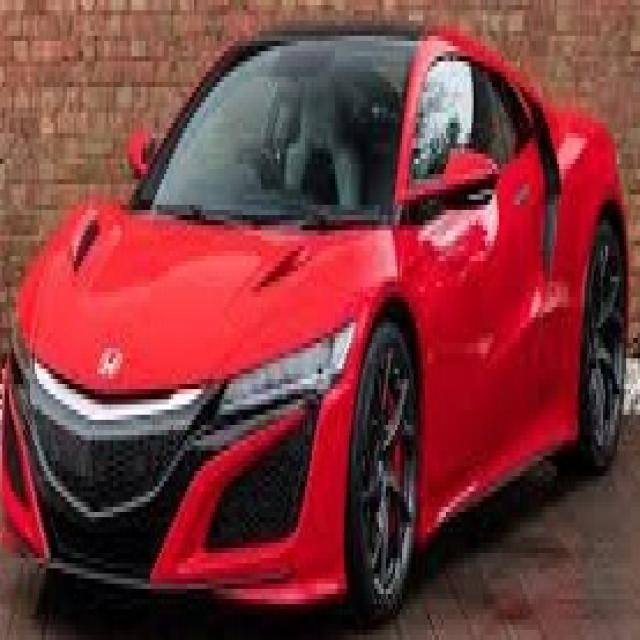red: (6, 23, 630, 640)
